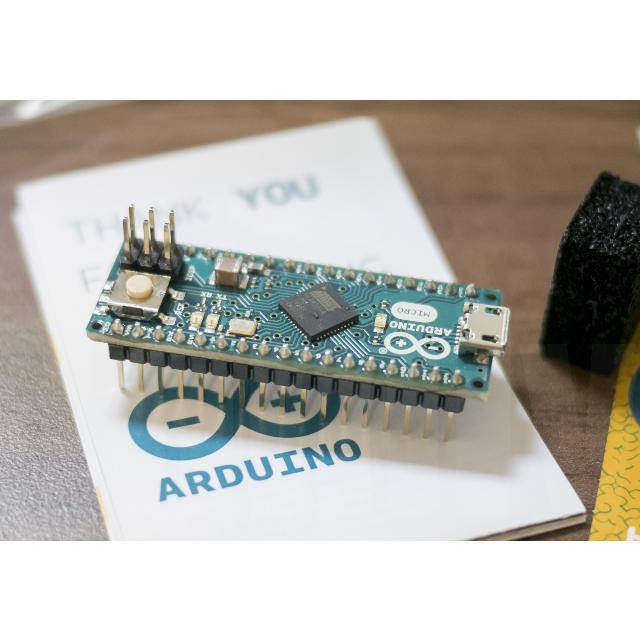Arduino-Micro: (88, 206, 510, 420)
